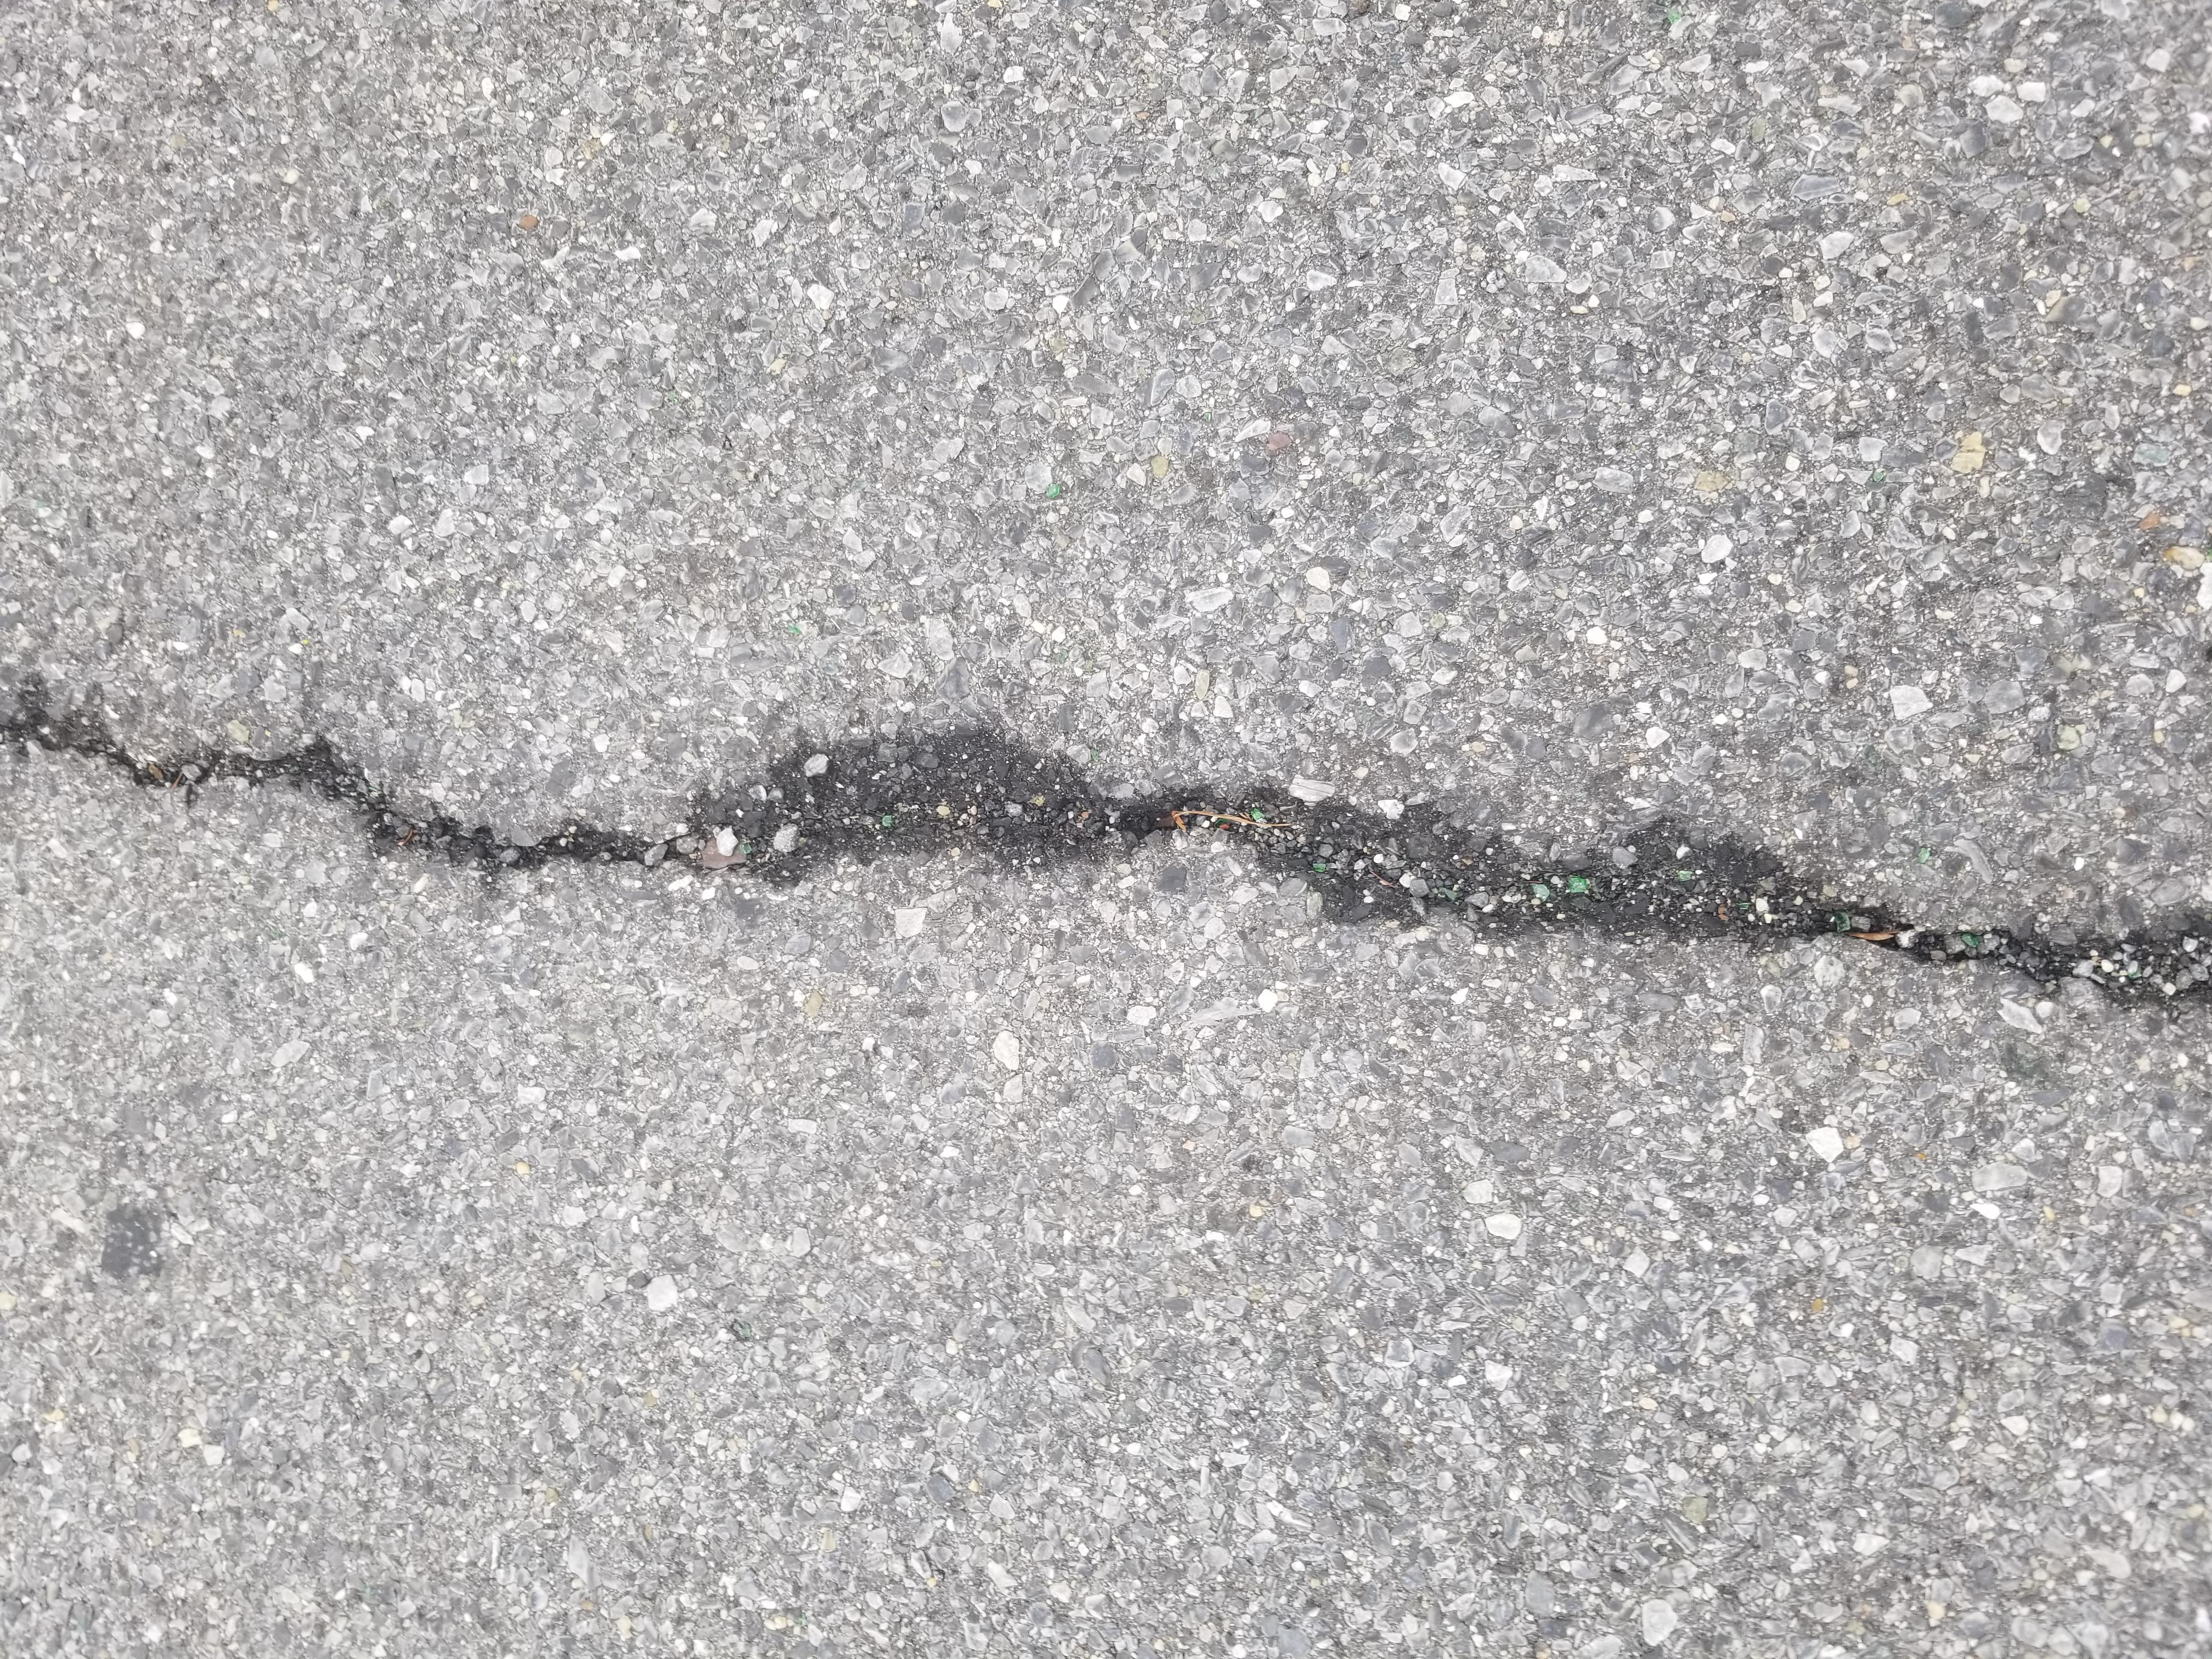crack: (808, 0, 1320, 1659)
